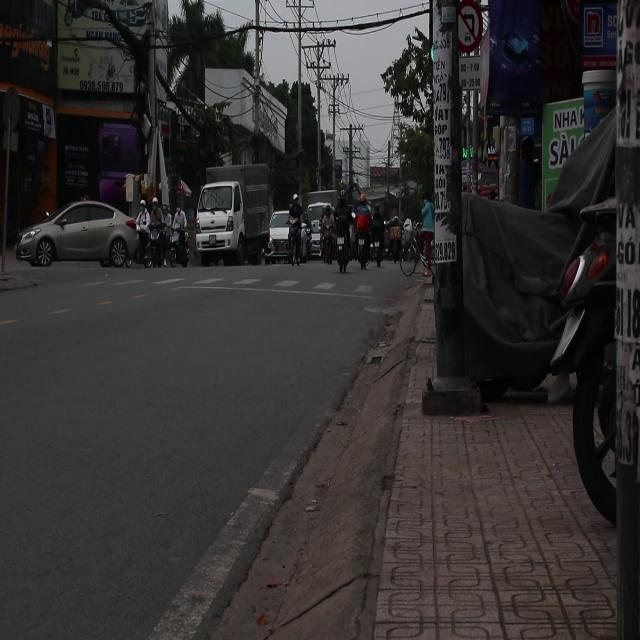car: (14, 201, 142, 267), (304, 190, 339, 230), (268, 210, 294, 258)
motorbike: (169, 226, 191, 269), (336, 228, 356, 272), (321, 226, 339, 264)
truck: (194, 164, 271, 267)
